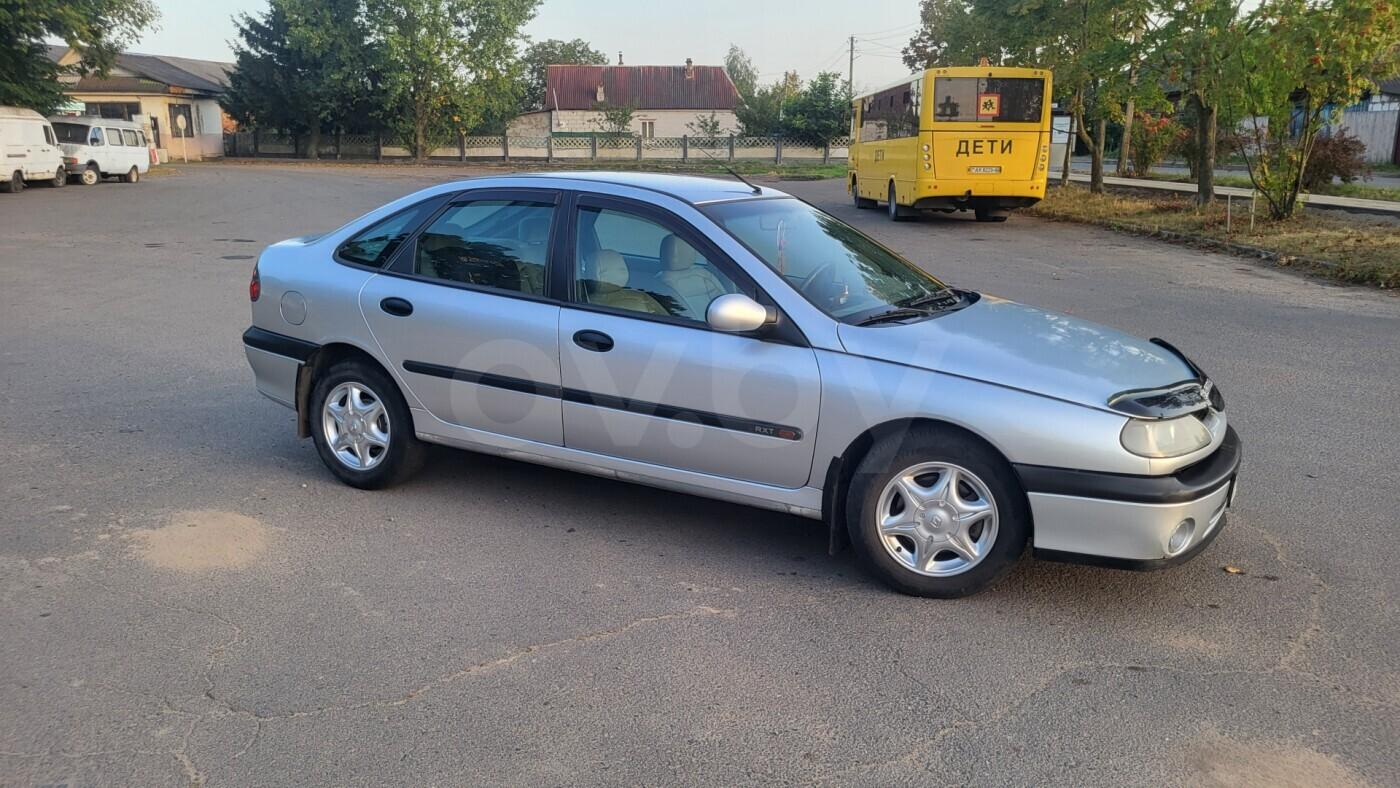Laguna_1998-2001: (243, 165, 1246, 613)
